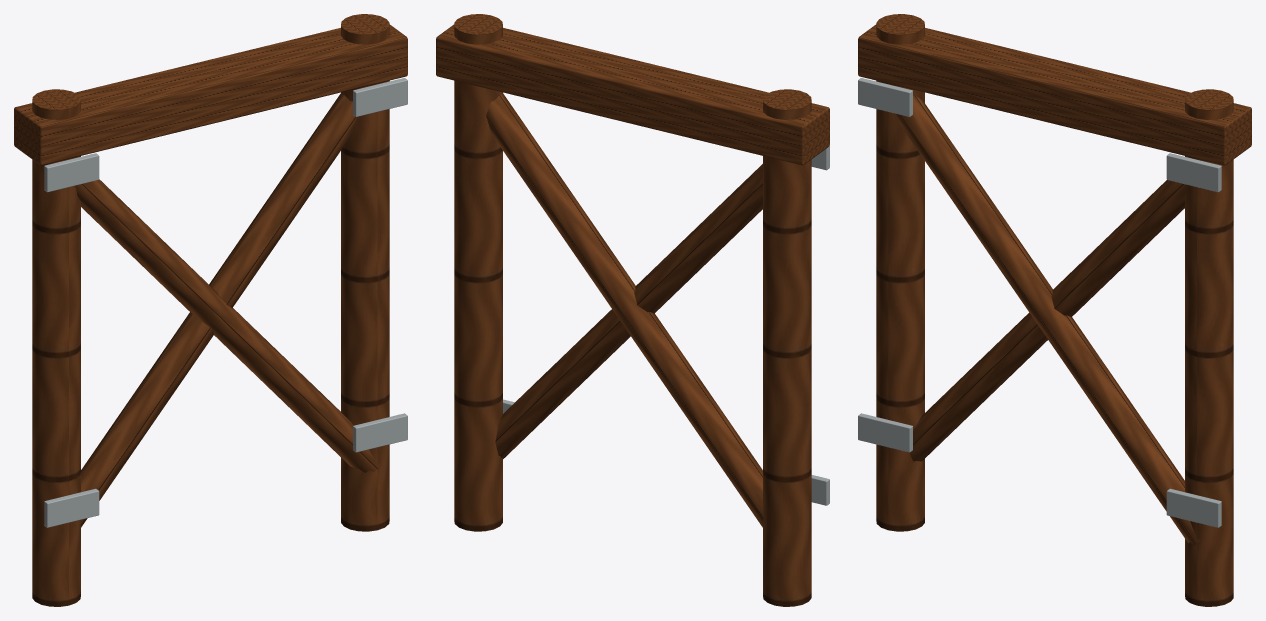
File: flooded-and-coastal-survival-braced-piling-frame-59a7e84e__20044.glb
3 renders of one model, left to right at view 1: azimuth 30°, elevation 25°; view 2: azimuth 150°, elevation 25°; view 3: azimuth 330°, elevation 25°, orthographic.
Parts seen in each view (by area): view 1: braced-piling-frame; view 2: braced-piling-frame; view 3: braced-piling-frame.
Boxes of the visible parts, box(x1,y1,x2,y2) form: braced-piling-frame: box(14, 14, 407, 606); braced-piling-frame: box(436, 14, 829, 606); braced-piling-frame: box(858, 14, 1251, 606).
Bounding box in the file's own units: 1.55 × 2 × 0.2225.
Materials: 2 (1 with a texture image).
